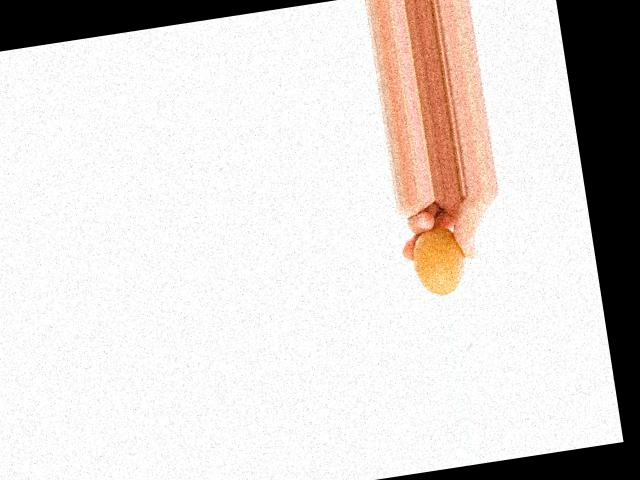egg: (408, 224, 469, 299)
